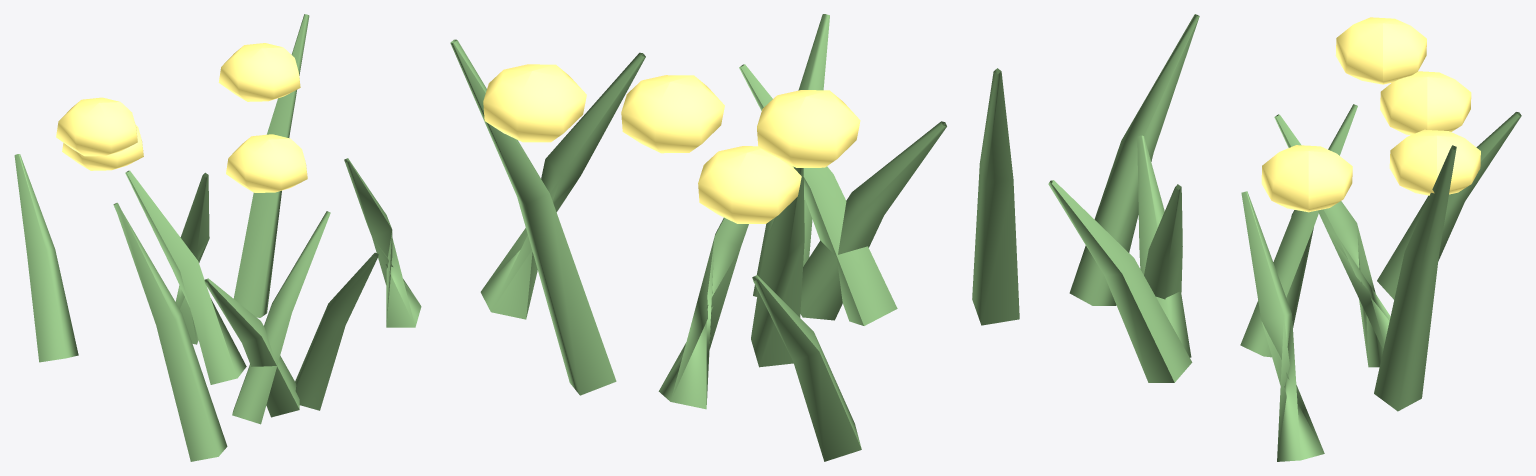
File: flowers.glb
The picture shows the model from 3 angles, left to right: view 1: azimuth 30°, elevation 25°; view 2: azimuth 150°, elevation 25°; view 3: azimuth 270°, elevation 25°; orthographic projection. The views are drawn at different scales.
Visible parts, largest first — view 1: flowers; view 2: flowers; view 3: flowers.
Boxes of the visible parts, left/top/right/bottom form: flowers: left=14, top=14, right=421, bottom=461; flowers: left=450, top=14, right=1019, bottom=461; flowers: left=1048, top=14, right=1521, bottom=461.
Size of the model in its own units: 26.67 by 19.43 by 27.32.
